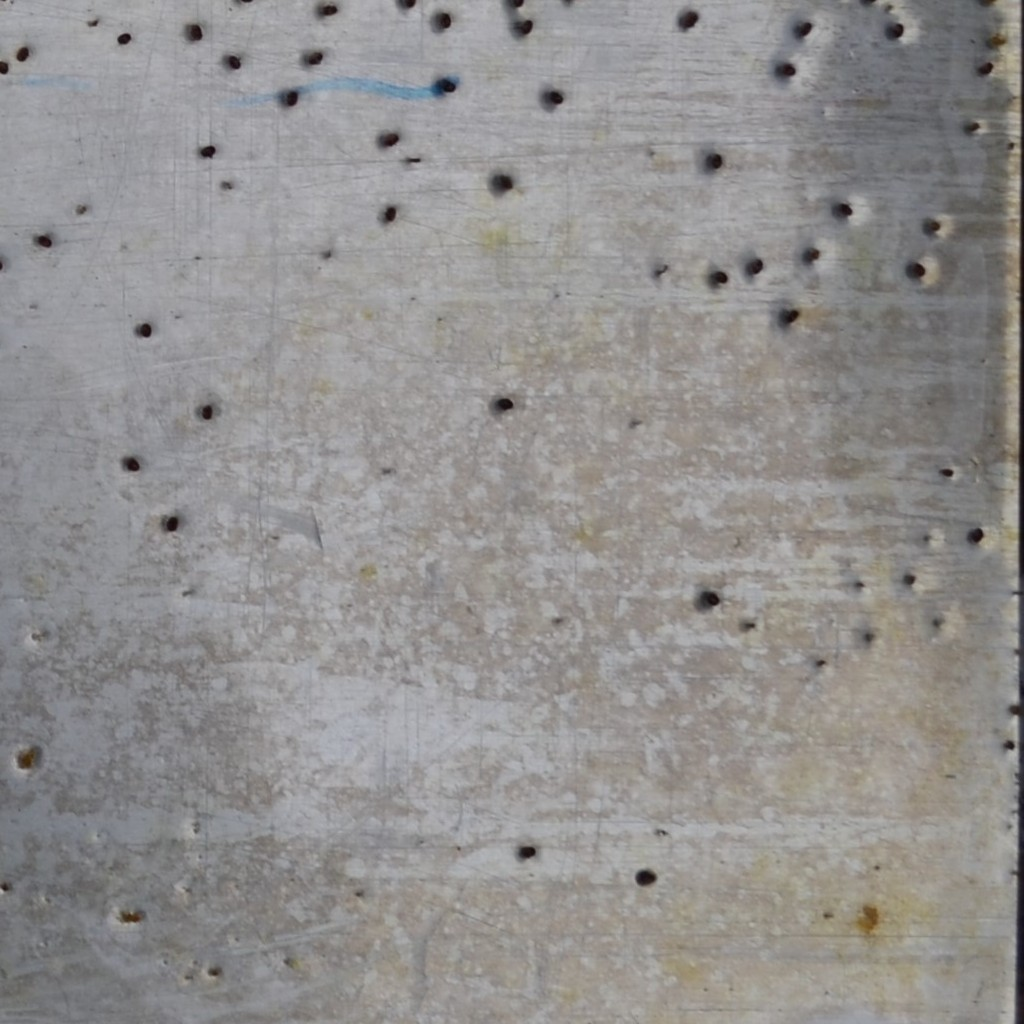varroa: (677, 8, 699, 36), (436, 72, 457, 96), (380, 127, 401, 150), (635, 867, 658, 888), (794, 18, 813, 43), (908, 258, 926, 283), (164, 511, 182, 535), (777, 60, 797, 80), (305, 46, 324, 67), (122, 455, 142, 474), (198, 141, 217, 161), (517, 841, 536, 861), (702, 589, 721, 609), (937, 461, 956, 481), (708, 150, 724, 172), (924, 217, 942, 236), (782, 309, 799, 329), (199, 401, 215, 422), (977, 60, 994, 79), (969, 526, 983, 549), (15, 43, 30, 64), (188, 21, 203, 42), (227, 53, 241, 75), (285, 87, 299, 109), (548, 88, 565, 106), (497, 394, 513, 413), (495, 174, 514, 190), (714, 268, 730, 287), (839, 199, 853, 220), (36, 233, 54, 249), (891, 19, 905, 39), (384, 204, 398, 223), (321, 3, 337, 19), (965, 119, 981, 135), (437, 11, 452, 28), (521, 17, 534, 36), (116, 31, 132, 46), (140, 321, 152, 340), (399, 0, 417, 12), (750, 259, 761, 278), (0, 58, 8, 76), (509, 0, 526, 7)
